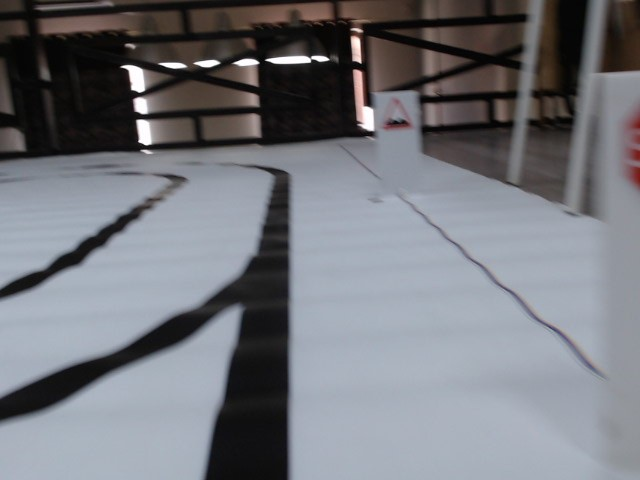Nerov: (382, 98, 413, 130)
